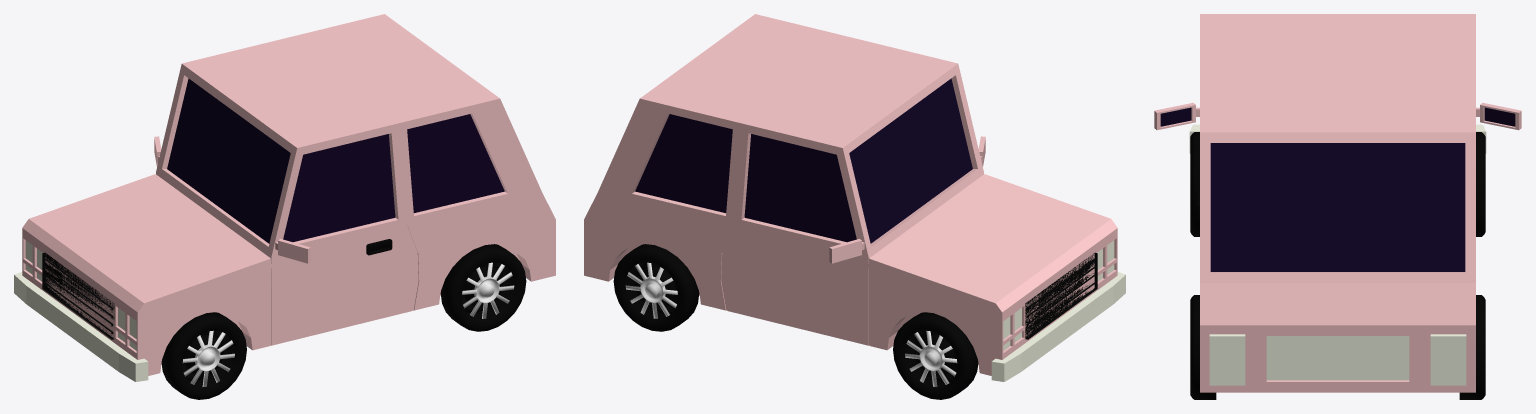
The picture shows the model from 3 angles, left to right: view 1: azimuth 30°, elevation 25°; view 2: azimuth 150°, elevation 25°; view 3: azimuth 270°, elevation 25°; orthographic projection. The views are drawn at different scales.
Parts seen in each view (by area): view 1: Vert.001; view 2: Vert.001; view 3: Vert.001.
Boxes of the visible parts, x1,y1,x2,y2 form: Vert.001: [14, 14, 555, 399]; Vert.001: [584, 14, 1125, 399]; Vert.001: [1154, 14, 1521, 399].
Bounding box in the file's own units: 434 × 220 × 269.
